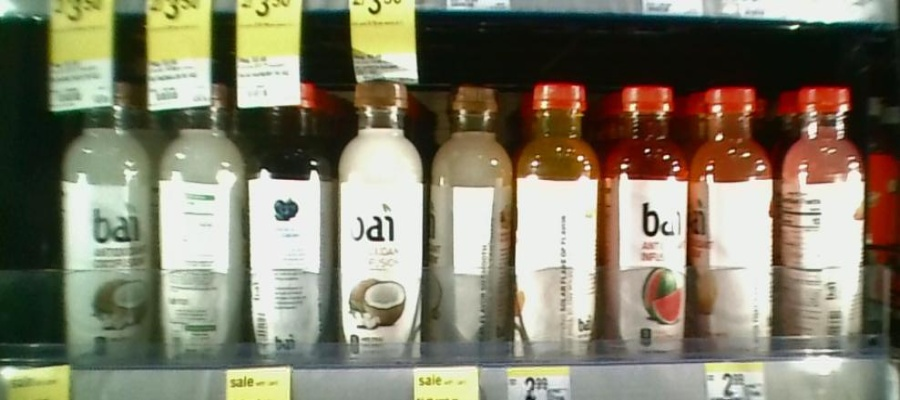bottle: (60, 82, 155, 367), (335, 75, 425, 369), (158, 83, 247, 371), (426, 70, 514, 359), (780, 70, 868, 356), (516, 86, 606, 363), (249, 85, 332, 370), (695, 75, 777, 362), (609, 77, 690, 365)
